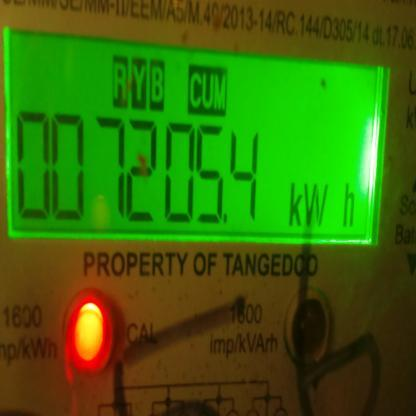.: (287, 176, 360, 232)
0: (222, 209, 230, 227)
1: (49, 109, 88, 222), (14, 106, 49, 221), (163, 120, 195, 223)
3: (122, 116, 159, 222)
5: (228, 125, 265, 221)
6: (194, 123, 225, 223)
8: (91, 115, 127, 217)
